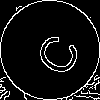C: (25, 25, 83, 80)
